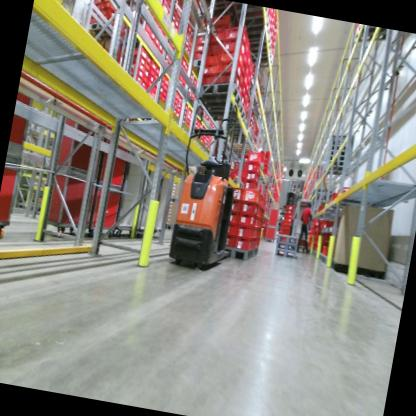pallet: (199, 91, 249, 124), (196, 76, 243, 111), (246, 24, 274, 71), (83, 15, 123, 47), (236, 3, 272, 35), (219, 242, 253, 263), (323, 162, 349, 177), (326, 141, 353, 155), (328, 131, 353, 146), (275, 232, 300, 246), (327, 136, 353, 149), (326, 151, 352, 164), (325, 146, 353, 158), (323, 156, 351, 168), (274, 248, 298, 260), (275, 242, 299, 251), (192, 55, 204, 70), (252, 244, 259, 258)
pallet_truck: (158, 92, 287, 288)
small_load_carrier: (221, 34, 248, 60), (216, 55, 243, 79), (214, 64, 242, 86), (224, 23, 248, 46), (219, 45, 243, 67), (231, 232, 253, 252), (205, 34, 223, 55), (244, 149, 263, 167), (204, 49, 222, 68), (241, 187, 261, 204), (239, 199, 259, 216), (206, 28, 226, 45), (212, 13, 233, 29), (226, 183, 244, 200), (240, 178, 258, 195), (236, 224, 255, 240), (238, 212, 257, 228), (203, 58, 219, 77), (195, 26, 210, 45), (98, 5, 117, 20), (244, 167, 260, 184), (191, 40, 208, 56), (245, 157, 262, 172), (211, 19, 228, 34), (197, 15, 213, 30), (88, 8, 103, 24), (132, 43, 149, 57), (102, 0, 120, 13), (97, 14, 116, 26), (319, 243, 335, 257), (224, 221, 237, 237), (201, 75, 217, 88), (129, 66, 144, 79), (228, 209, 240, 225), (129, 72, 143, 85), (318, 218, 332, 231), (229, 198, 241, 213), (89, 0, 101, 15), (245, 39, 253, 61), (132, 59, 145, 72), (132, 54, 146, 64), (223, 235, 235, 246), (191, 49, 203, 60), (235, 81, 243, 97), (237, 70, 244, 88), (142, 65, 151, 79), (239, 61, 246, 77), (147, 73, 157, 84), (149, 66, 158, 78), (149, 60, 158, 72), (145, 52, 153, 65), (255, 203, 262, 217), (252, 226, 260, 238), (243, 52, 249, 68), (248, 236, 255, 249), (144, 59, 151, 72), (140, 80, 150, 89), (311, 217, 321, 226), (146, 85, 154, 96), (259, 193, 265, 207), (254, 216, 260, 227), (313, 225, 321, 233), (141, 74, 148, 82), (161, 0, 168, 8), (312, 232, 320, 239), (310, 243, 318, 250), (253, 237, 257, 249), (312, 238, 318, 246), (93, 0, 102, 4), (310, 225, 314, 233)
